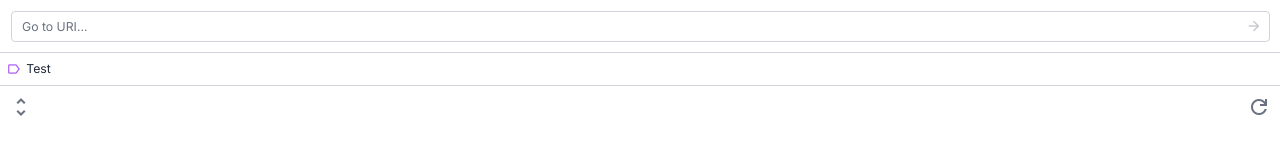
ConceptTree › goto URI with collection detection › isCollection returns false when no endpoint
The width and height of the screenshot is (1280, 160).
Step 1. Type "http://example.org/collection/1" into the field with class "ae-input" → (640, 26), box left=10, top=10, right=1270, bottom=42
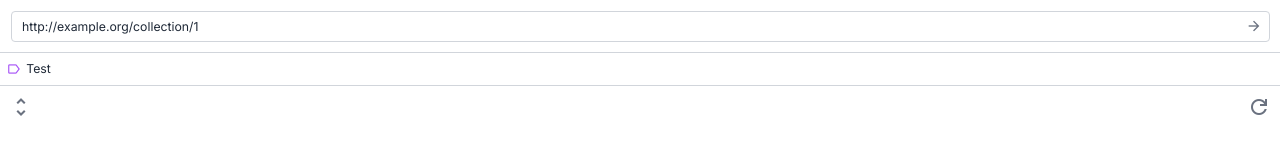
Step 2. Click the button with class "goto-btn" → (1254, 26), box left=1242, top=14, right=1266, bottom=38
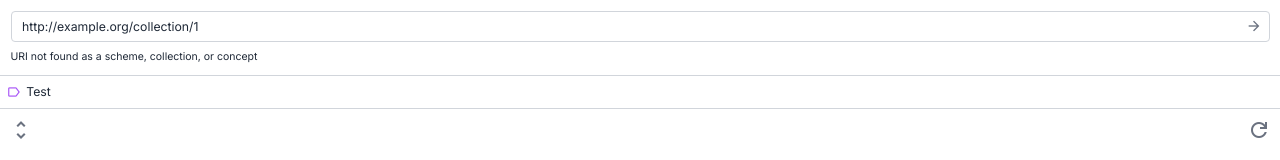
Expected: the text "URI not found as a scheme, collection, or concept" is shown, left=10, top=50, right=258, bottom=62
